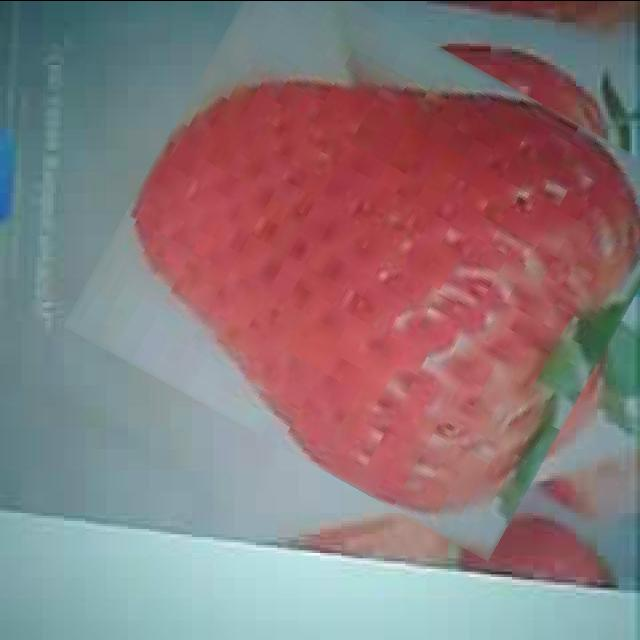strawberry: (100, 0, 640, 516)
